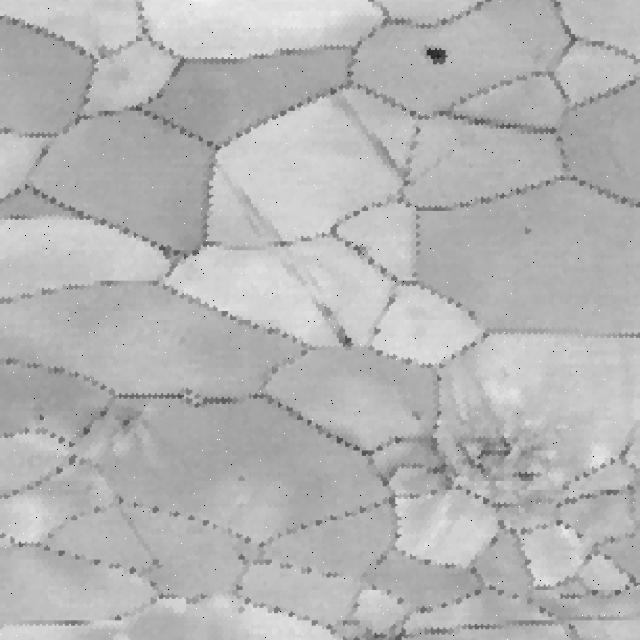good_void: (426, 417, 550, 491), (315, 302, 357, 354), (404, 35, 460, 73), (114, 404, 152, 440), (219, 468, 254, 490), (399, 403, 429, 426), (29, 408, 61, 428), (522, 224, 538, 238)
